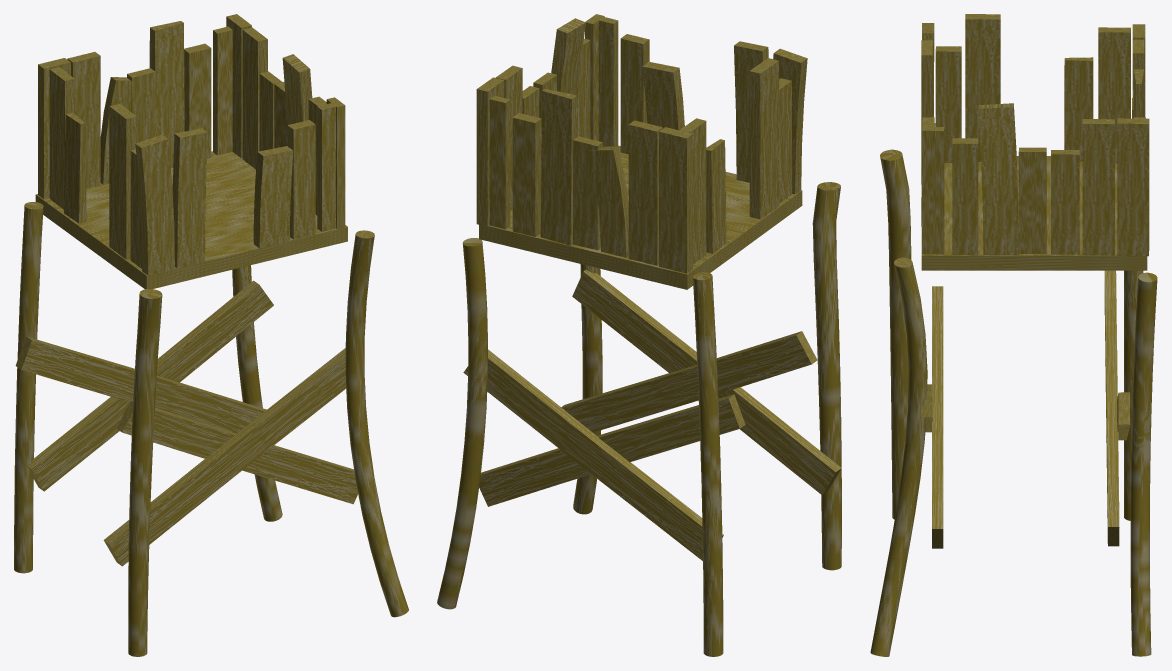
File: tower1.FBX
3 renders of one model, left to right at view 1: azimuth 30°, elevation 25°; view 2: azimuth 150°, elevation 25°; view 3: azimuth 270°, elevation 25°, orthographic. The views are drawn at different scales.
Visible parts, largest first — view 1: tower1; view 2: tower1; view 3: tower1.
Part boxes in pixels (left/top/right/bottom): tower1: left=14, top=14, right=408, bottom=656; tower1: left=437, top=14, right=841, bottom=656; tower1: left=870, top=14, right=1157, bottom=656.
Bounding box in the file's own units: 42.29 × 75.29 × 36.95.
